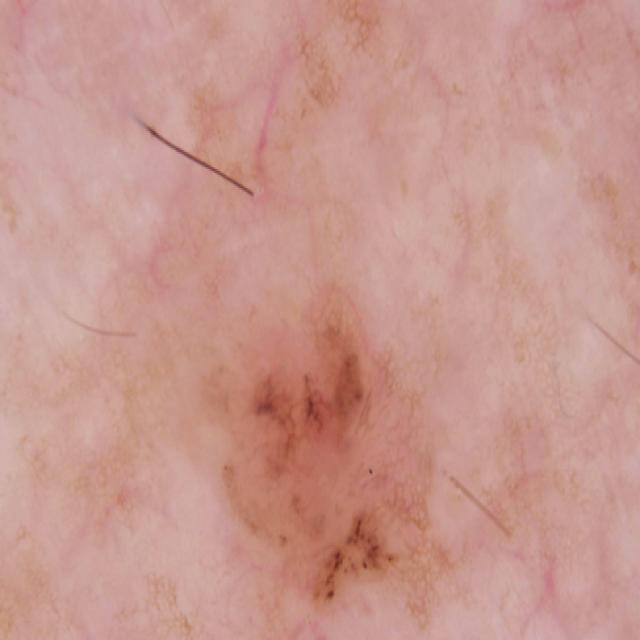Carcinoma: (172, 245, 517, 640)
